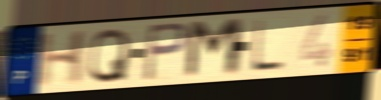4: (298, 12, 334, 70)
H: (34, 28, 90, 90)
L: (249, 17, 287, 74)
M: (182, 16, 246, 81)
P: (140, 21, 190, 83)
Q: (86, 26, 132, 85)
